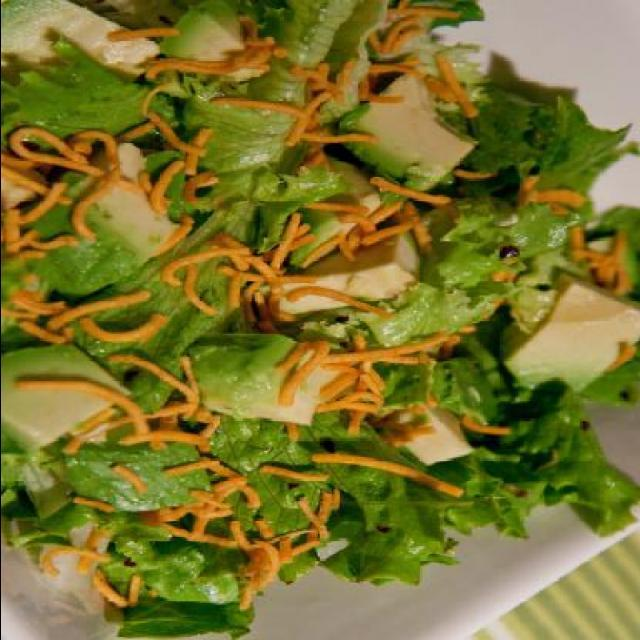Salad: (2, 4, 640, 638)
